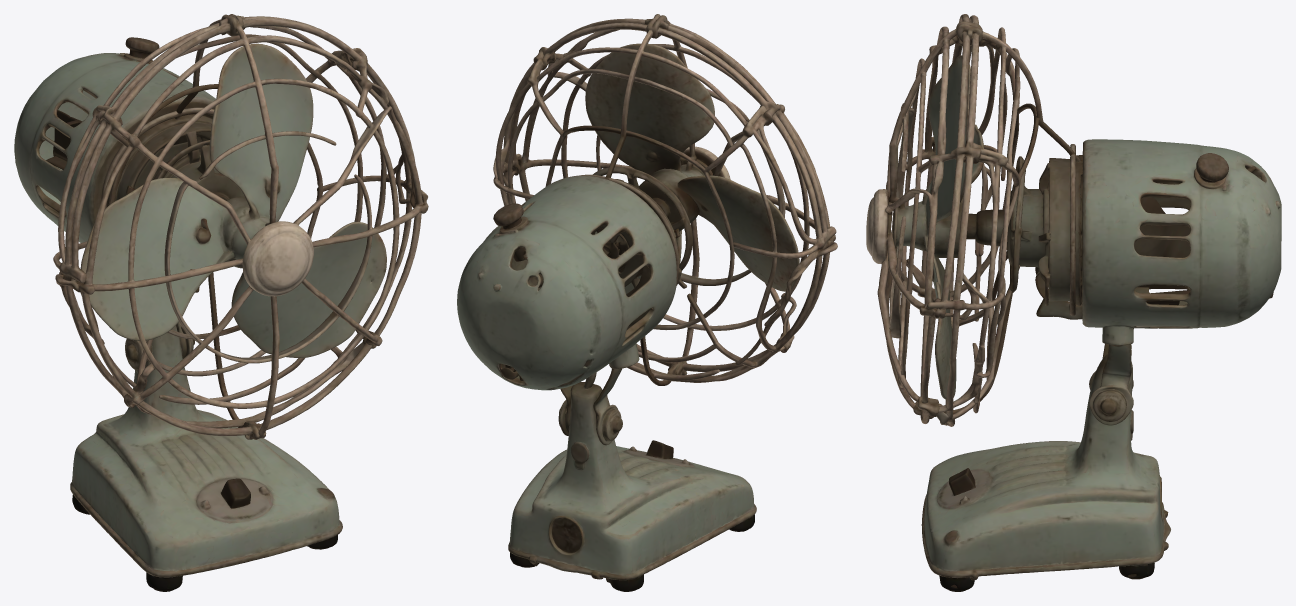
Rendered from fanlow.glb.
The picture shows the model from 3 angles, left to right: view 1: azimuth 30°, elevation 25°; view 2: azimuth 150°, elevation 25°; view 3: azimuth 270°, elevation 25°; orthographic projection. The views are drawn at different scales.
Bounding box in the file's own units: 0.6963 × 1 × 0.7181.
1 material, 1 textured.
